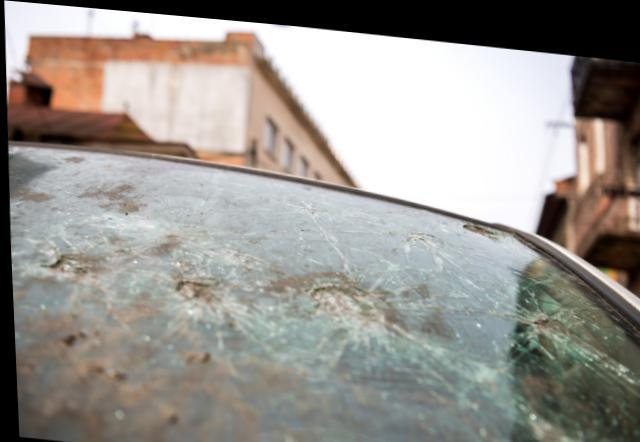glass shatter: (6, 144, 640, 442)
